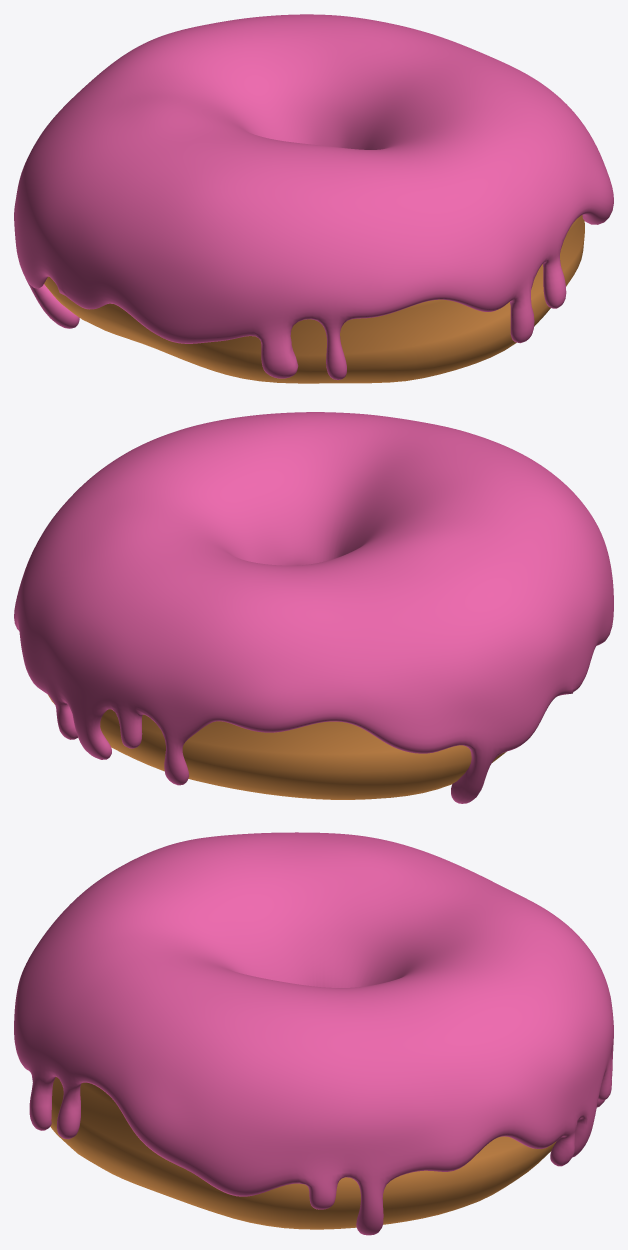
File: donut.glb
3 views of the same model, one above another, from view 1: azimuth 30°, elevation 25°; view 2: azimuth 150°, elevation 25°; view 3: azimuth 270°, elevation 25° (orthographic). The views are drawn at different scales.
Visible parts, largest first — view 1: Icing, Donut; view 2: Icing, Donut; view 3: Icing, Donut.
Boxes of the visible parts, left/top/right/bottom form: Icing: left=14, top=14, right=613, bottom=379; Donut: left=44, top=215, right=584, bottom=383; Icing: left=14, top=412, right=613, bottom=803; Donut: left=48, top=695, right=506, bottom=799; Icing: left=14, top=832, right=613, bottom=1235; Donut: left=50, top=1077, right=556, bottom=1229.
Size of what is drawn, in the model's own units: 0.1008 by 0.0433 by 0.1002.
